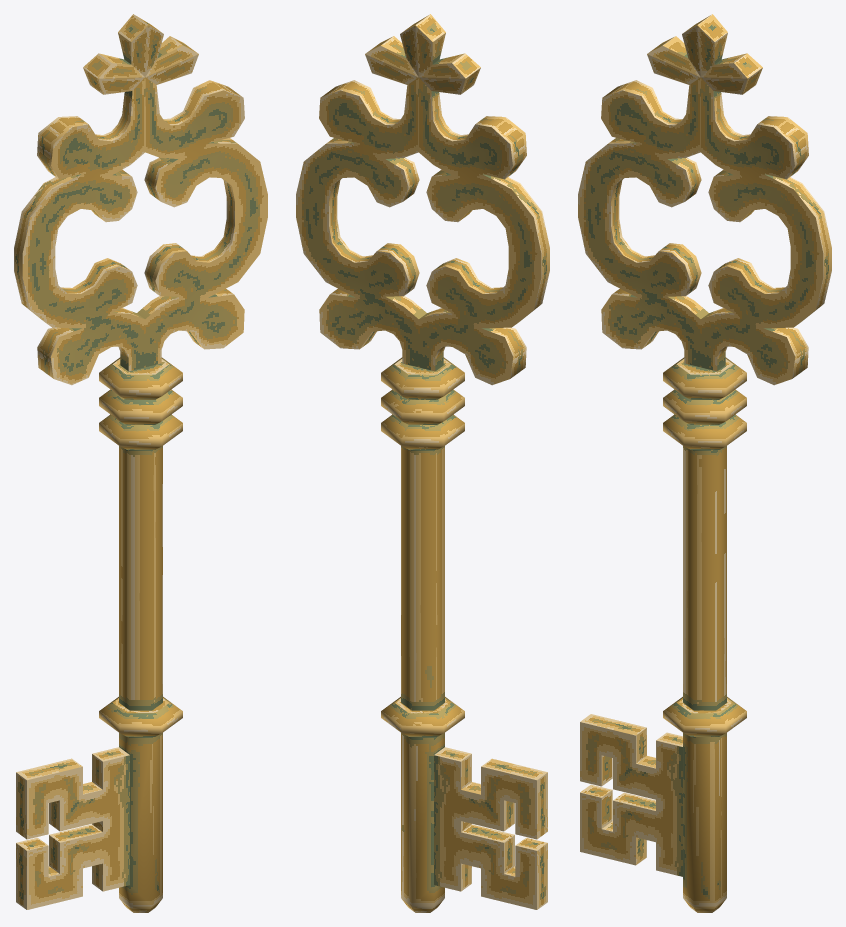
File: key.glb
3 renders of one model, left to right at view 1: azimuth 30°, elevation 25°; view 2: azimuth 150°, elevation 25°; view 3: azimuth 330°, elevation 25°, orthographic.
Parts seen in each view (by area): view 1: Cylinder; view 2: Cylinder; view 3: Cylinder.
Boxes of the visible parts, x1,y1,x2,y2 form: Cylinder: (14,14,267,912); Cylinder: (296,14,549,912); Cylinder: (578,14,831,912).
Bounding box in the file's own units: 0.4227 × 1.46 × 0.1249.
Materials: 1 (1 with a texture image).
